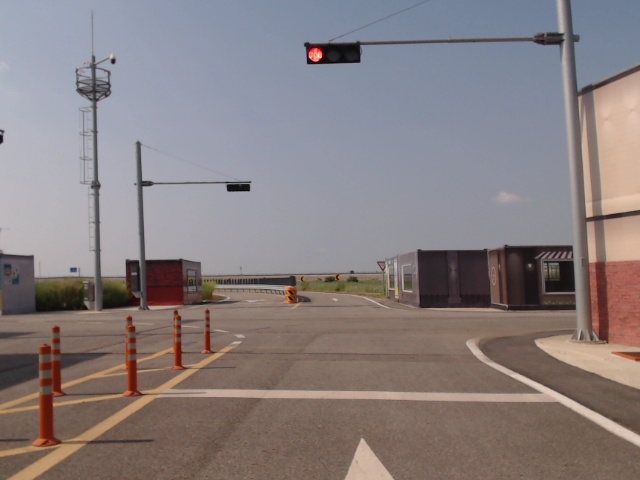red_3: (307, 43, 360, 65)
